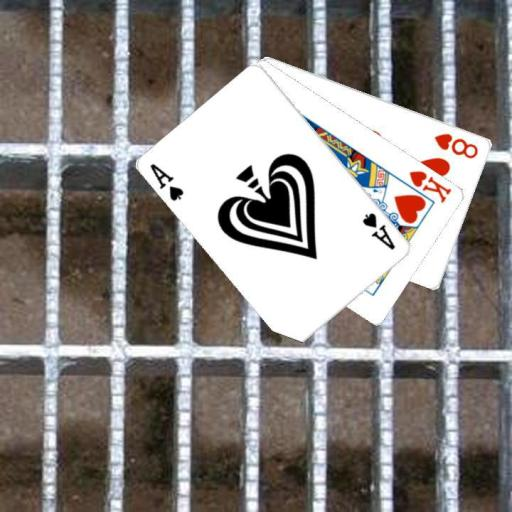8H: (432, 129, 480, 160)
AS: (148, 160, 187, 203), (360, 209, 397, 252)
KH: (406, 167, 454, 205)
